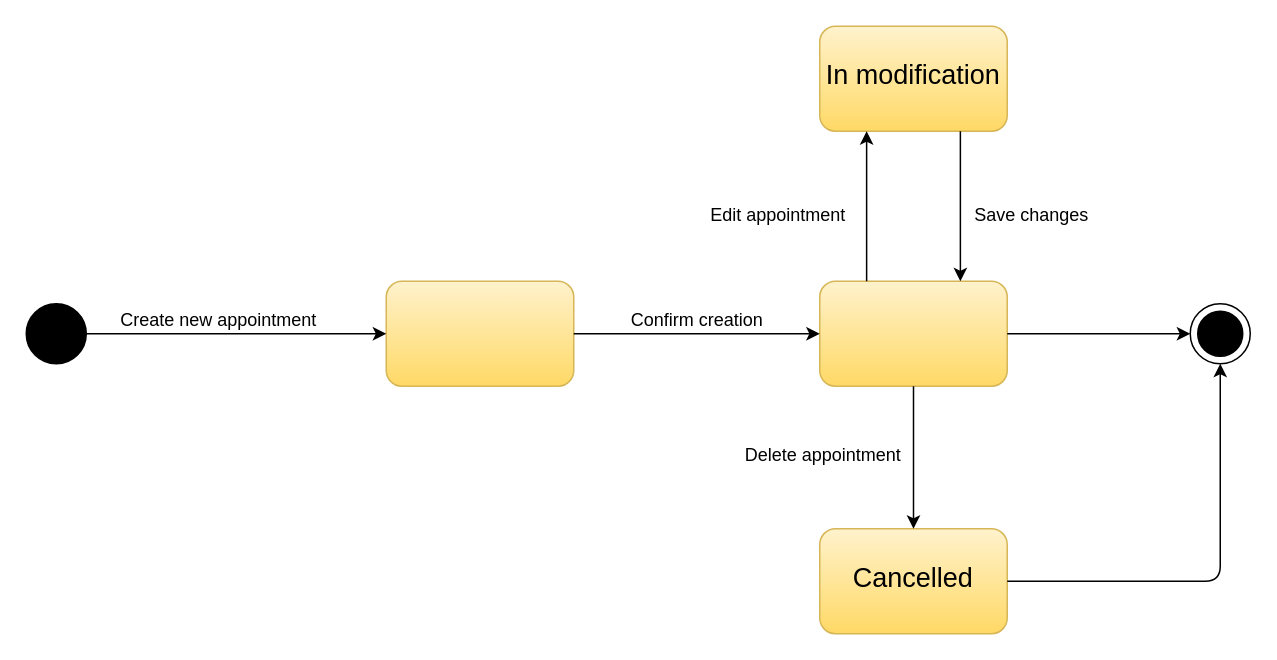
The diagram is 1277 pixels wide and 660 high, and some of its shapes have lost their labels. Here are the shapes that lost their labels. From the top down, the centre of each, then its label:
pixel 479 333: New
pixel 912 333: Scheduled
